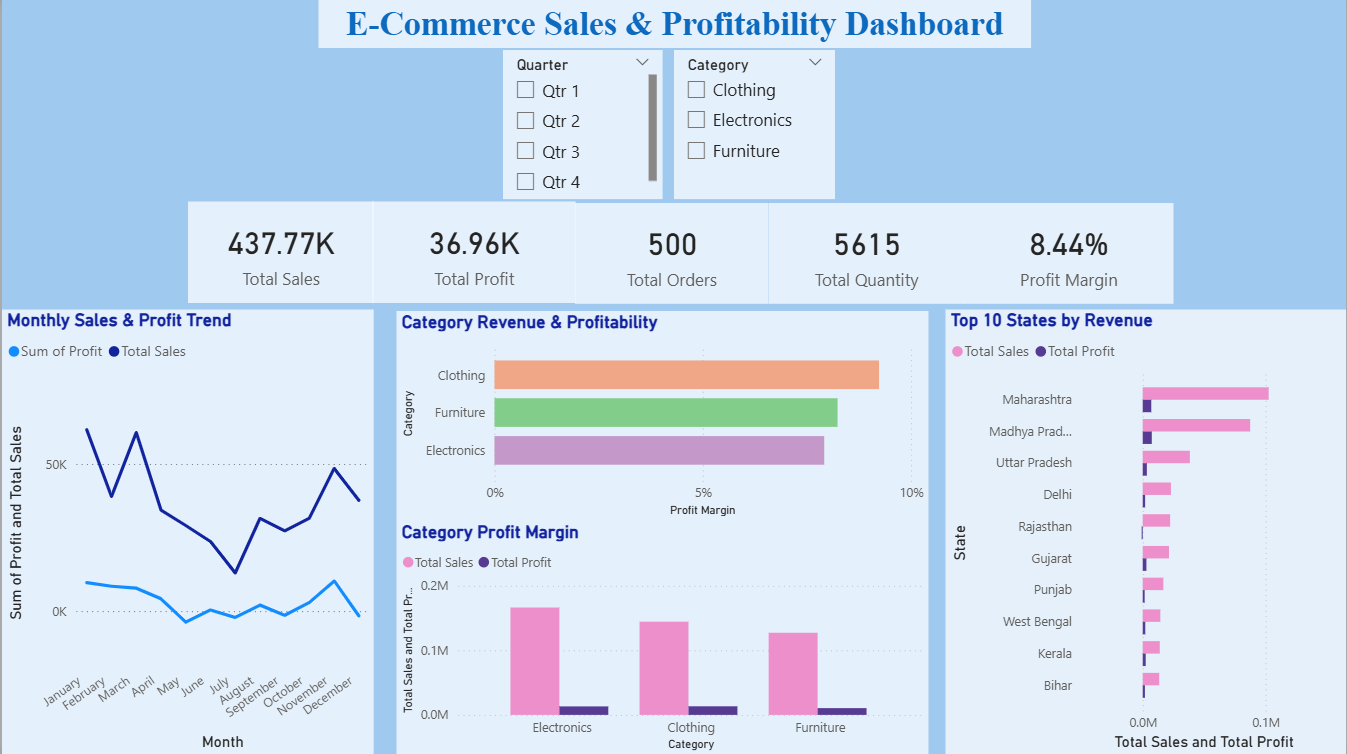

The page's visual inventory and layout, read from the dashboard file:
{"tool":"powerbi","page":{"name":"Executive Overview","canvas":[1280,720],"ordinal":0},"visuals":[{"type":"card","fields":{"Values":["Details.Total Sales"]},"box":[176.7,193.3,176.7,96.7],"z":0},{"type":"card","fields":{"Values":["Details.Total Profit"]},"box":[353.3,193.3,193.3,96.7],"z":1000},{"type":"card","fields":{"Values":["Details.Total Orders"]},"box":[546.7,191.7,183.3,98.3],"z":2000},{"type":"card","fields":{"Values":["Details.Total Quantity"]},"box":[730,191.7,186.7,98.3],"z":3000},{"type":"card","fields":{"Values":["Details.Profit Margin"]},"box":[917,190,200,100],"z":4000},{"type":"textbox","box":[301.7,0,678.3,46.7],"z":5000},{"type":"lineChart","title":"Monthly Sales & Profit Trend","fields":{"Category":["Orders.Order Date.Variation.Date Hierarchy.Month"],"Y":["Sum(Details.Profit)","Details.Total Sales"]},"box":[0,296,354,424],"z":6000},{"type":"clusteredColumnChart","title":"Category Profit Margin","fields":{"Category":["Details.Category"],"Y":["Details.Total Sales","Details.Total Profit"]},"box":[375,496.7,506.7,223.3],"z":7000},{"type":"clusteredBarChart","title":"Category Revenue & Profitability","fields":{"Category":["Details.Category"],"Y":["Details.Profit Margin"]},"box":[375,296.7,506.7,200],"z":8000},{"type":"clusteredBarChart","title":"Top 10 States by Revenue","fields":{"Category":["Orders.State"],"Y":["Details.Total Sales","Details.Total Profit"]},"box":[898,296,382,424],"z":9000},{"type":"slicer","fields":{"Values":["Orders.Order Date.Variation.Date Hierarchy.Quarter"]},"box":[476.7,48.3,151.7,141.7],"z":10000},{"type":"slicer","fields":{"Values":["Details.Category"]},"box":[640,48.3,153.3,141.7],"z":11000}]}

Visuals, with their boxes in screenshot pixels (x1, y1, x2, y2), scaled from the page's 1280x720 canvas onto the 1347x754 screenshot:
card - Details.Total Sales: <bbox>186, 202, 372, 304</bbox>
card - Details.Total Profit: <bbox>372, 202, 575, 304</bbox>
card - Details.Total Orders: <bbox>575, 201, 768, 304</bbox>
card - Details.Total Quantity: <bbox>768, 201, 965, 304</bbox>
card - Details.Profit Margin: <bbox>965, 199, 1175, 304</bbox>
textbox: <bbox>317, 0, 1031, 49</bbox>
"Monthly Sales & Profit Trend" lineChart: <bbox>0, 310, 373, 753</bbox>
"Category Profit Margin" clusteredColumnChart: <bbox>395, 520, 928, 753</bbox>
"Category Revenue & Profitability" clusteredBarChart: <bbox>395, 311, 928, 520</bbox>
"Top 10 States by Revenue" clusteredBarChart: <bbox>945, 310, 1346, 753</bbox>
slicer - Orders.Order Date.Variation.Date Hierarchy.Quarter: <bbox>502, 51, 661, 199</bbox>
slicer - Details.Category: <bbox>674, 51, 835, 199</bbox>
